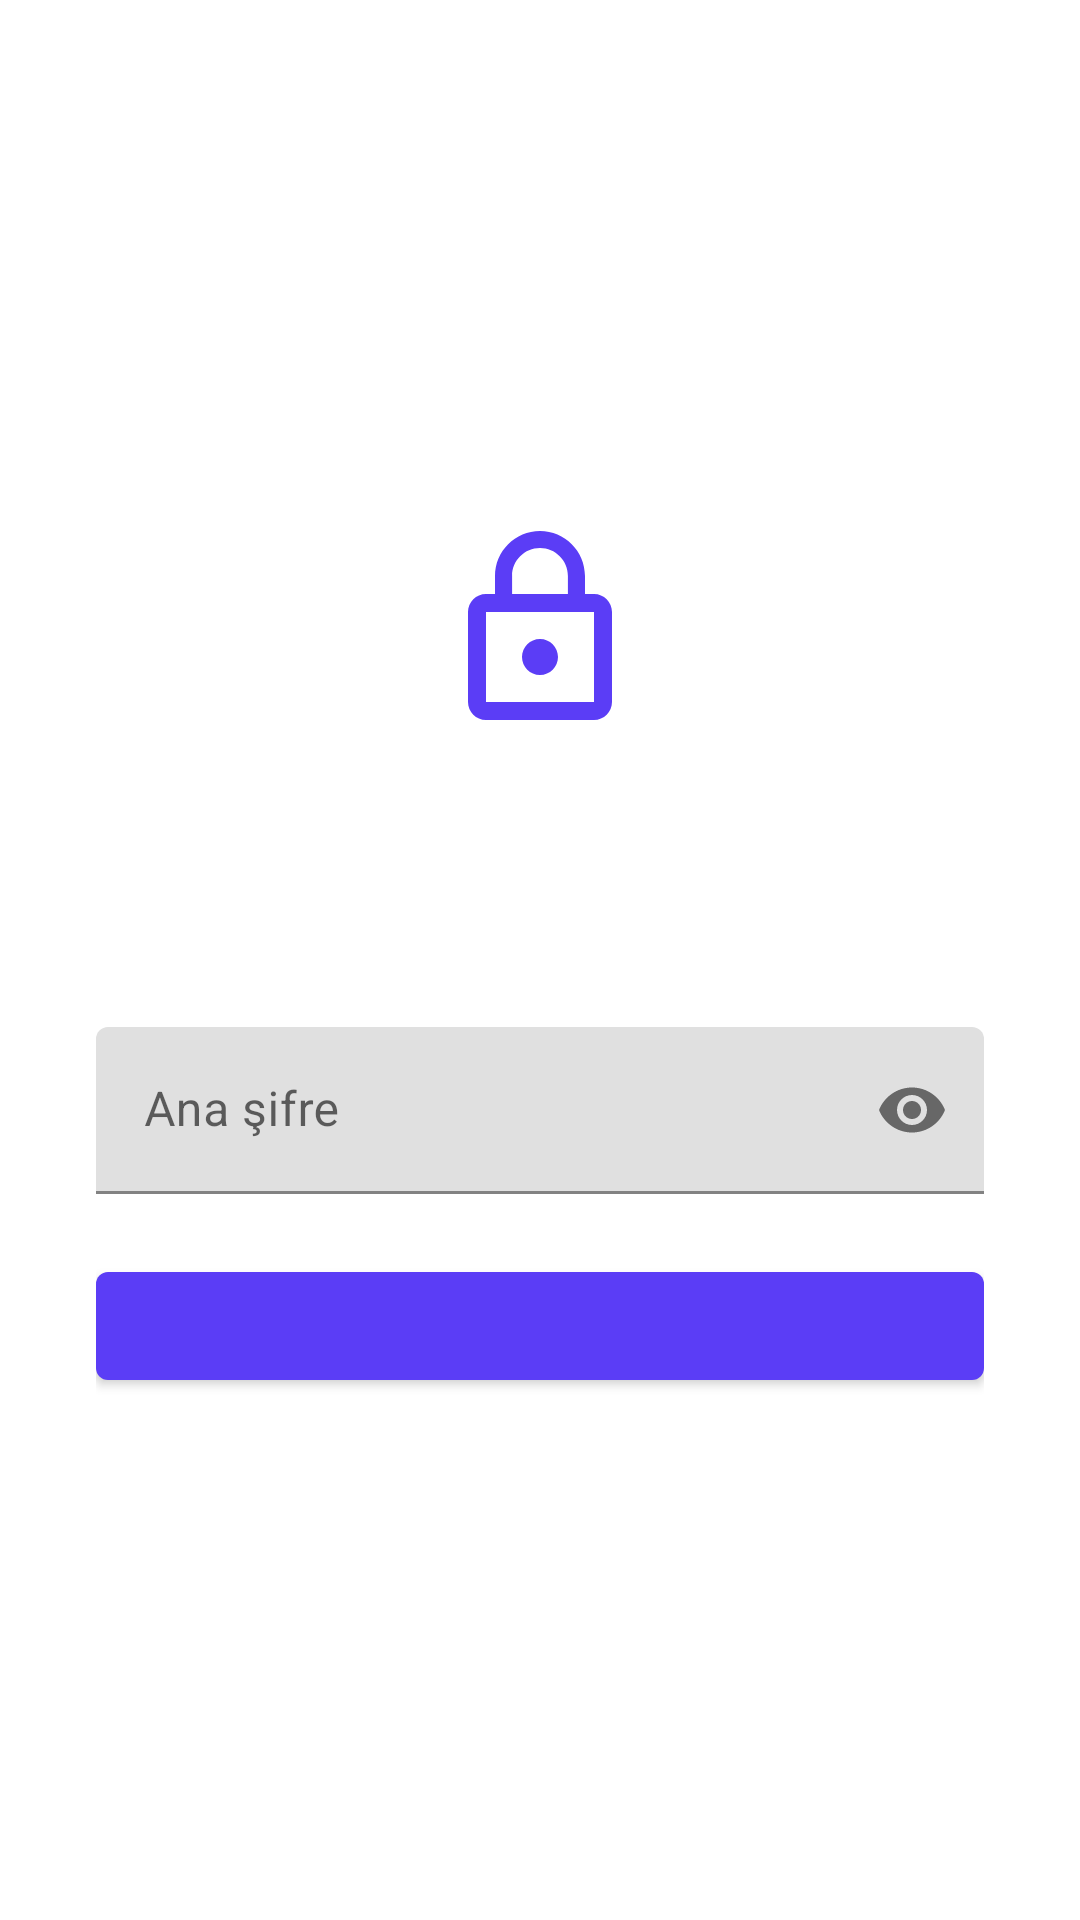

Where icons sit on this 1080 × 1920 app screen, as (x1, y1, x2, y2):
lock: (468, 531, 612, 720)
